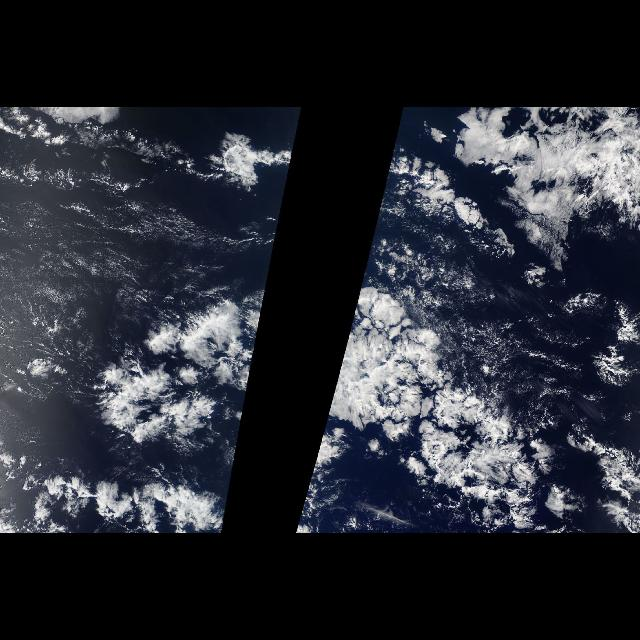Flower: (295, 292, 639, 534), (87, 292, 266, 534), (422, 140, 604, 276)
Sugar: (0, 152, 234, 432)
